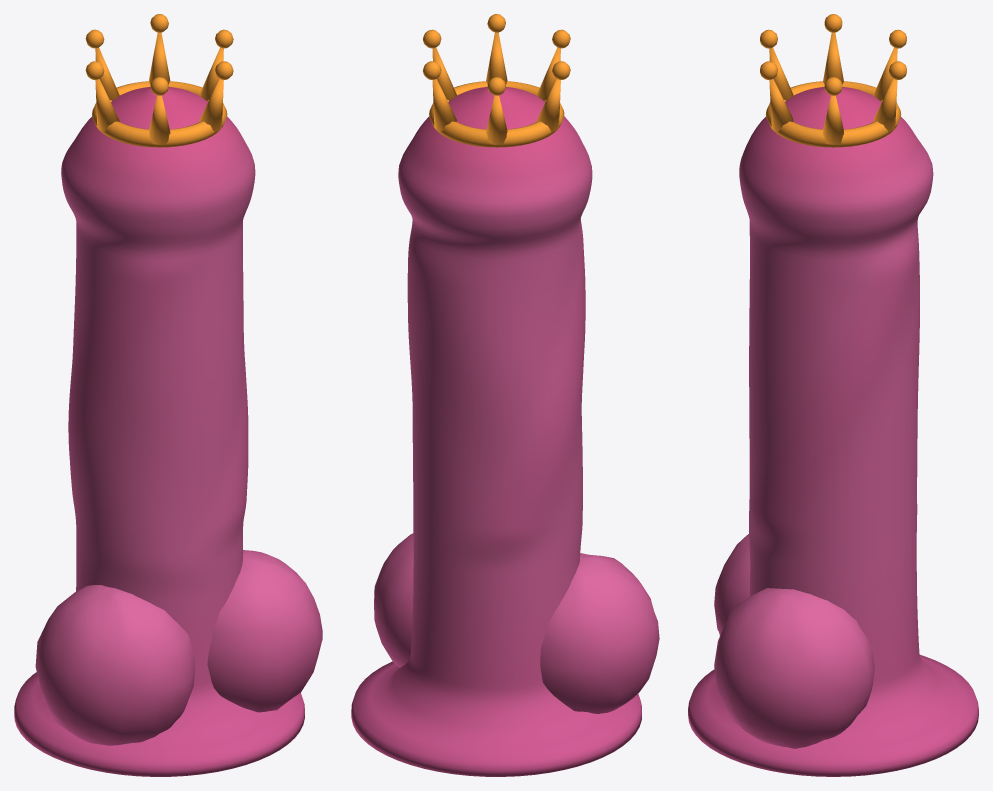
The model's file is king.glb.
The picture shows the model from 3 angles, left to right: view 1: azimuth 30°, elevation 25°; view 2: azimuth 150°, elevation 25°; view 3: azimuth 270°, elevation 25°; orthographic projection.
Visible parts, largest first — view 1: king, crown; view 2: king, crown; view 3: king, crown.
Boxes of the visible parts, x1=… form: king: x1=14, y1=87, x2=322, y2=776; crown: x1=85, y1=14, x2=233, y2=147; king: x1=351, y1=87, x2=659, y2=776; crown: x1=423, y1=14, x2=570, y2=147; king: x1=688, y1=87, x2=978, y2=776; crown: x1=760, y1=14, x2=906, y2=147.
Bounding box in the file's own units: 0.55 × 1.33 × 0.524.
